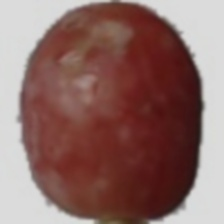grapes: (49, 46, 188, 203)
